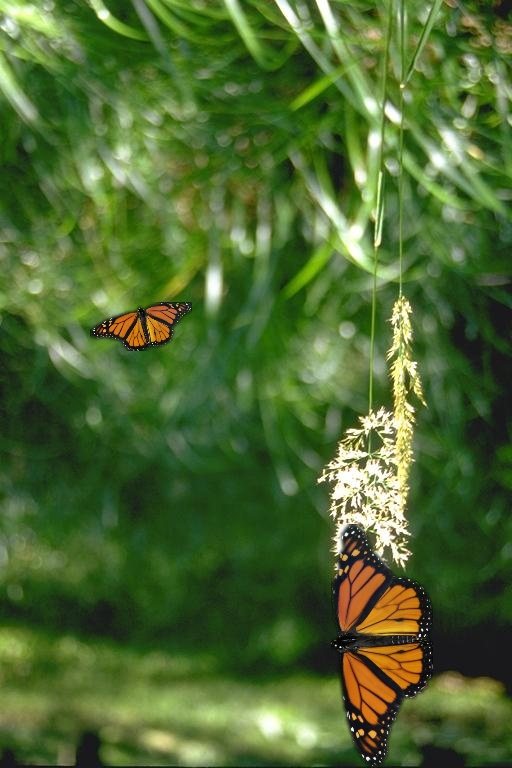danaus_plexippus: (331, 524, 433, 768), (90, 302, 192, 351)
